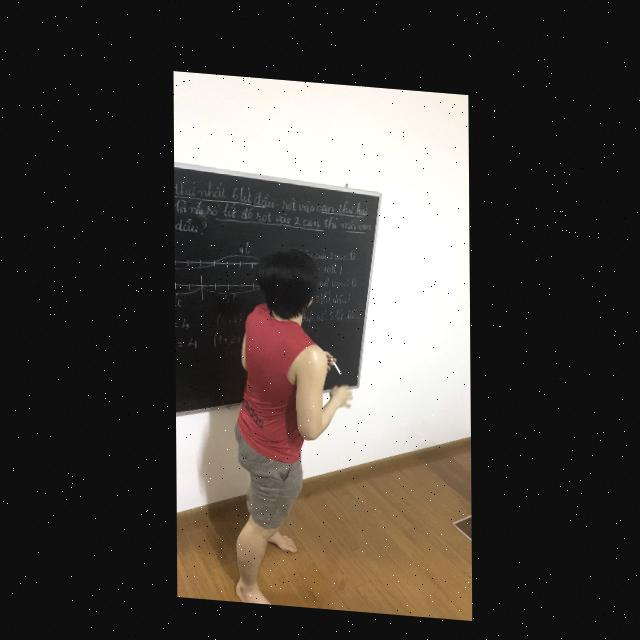cigarette: (329, 352, 341, 368)
